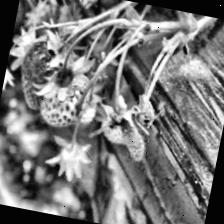Gray Mold: (85, 89, 155, 163)
